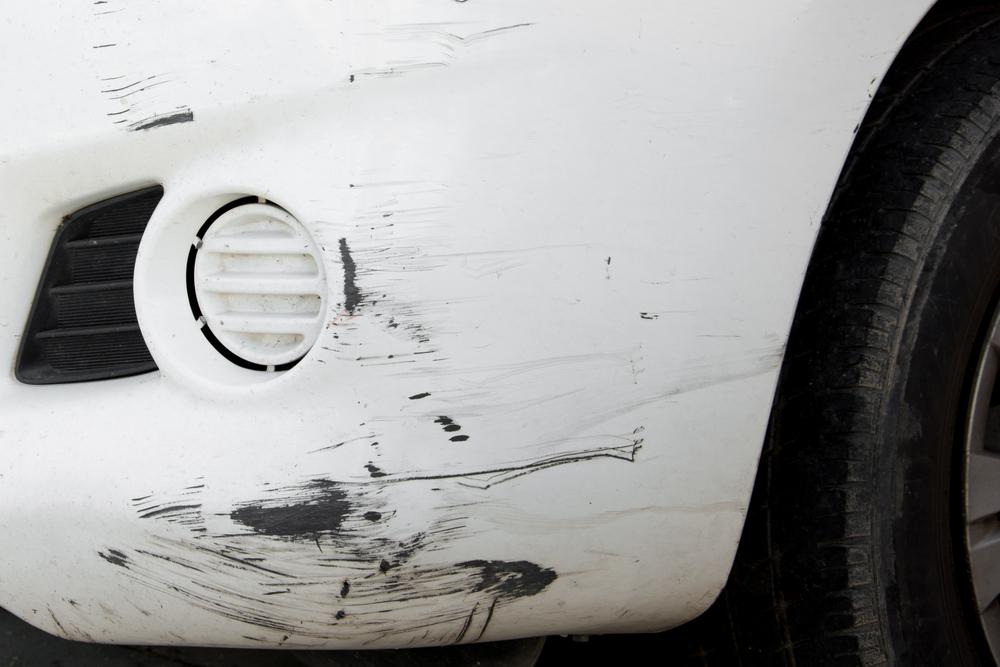scratch: (38, 174, 791, 651), (85, 0, 552, 144)
